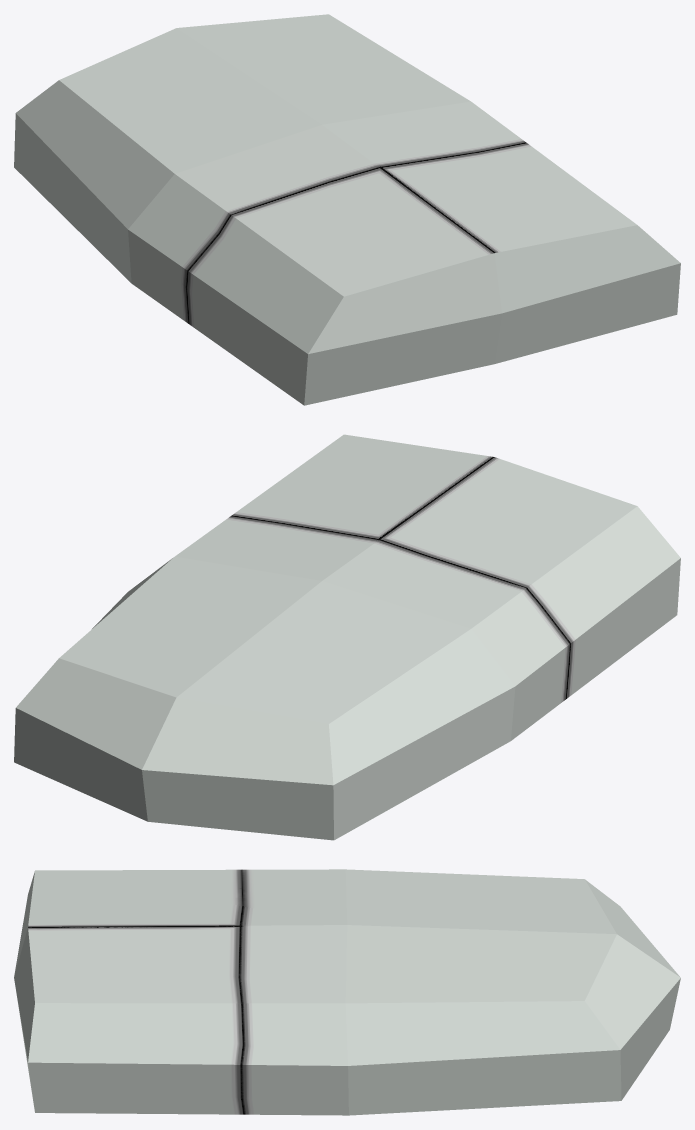
File: 90scomputermouse_modelingfbx.fbx
3 renders of one model, top to bottom at view 1: azimuth 30°, elevation 25°; view 2: azimuth 150°, elevation 25°; view 3: azimuth 270°, elevation 25°, orthographic. The views are drawn at different scales.
Parts seen in each view (by area): view 1: 90scomputermouse_modelingfbx; view 2: 90scomputermouse_modelingfbx; view 3: 90scomputermouse_modelingfbx.
Boxes of the visible parts, x1,y1,x2,y2 form: 90scomputermouse_modelingfbx: (14,14,680,405); 90scomputermouse_modelingfbx: (14,434,680,840); 90scomputermouse_modelingfbx: (14,869,680,1115).
Size of the model in its own units: 232 by 66.16 by 373.
